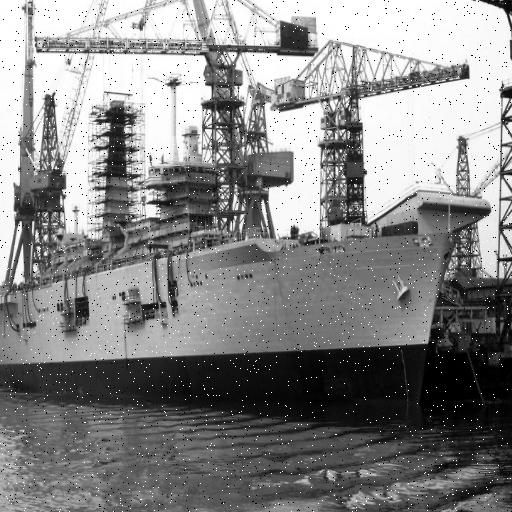Portanaves: (1, 65, 463, 440)
